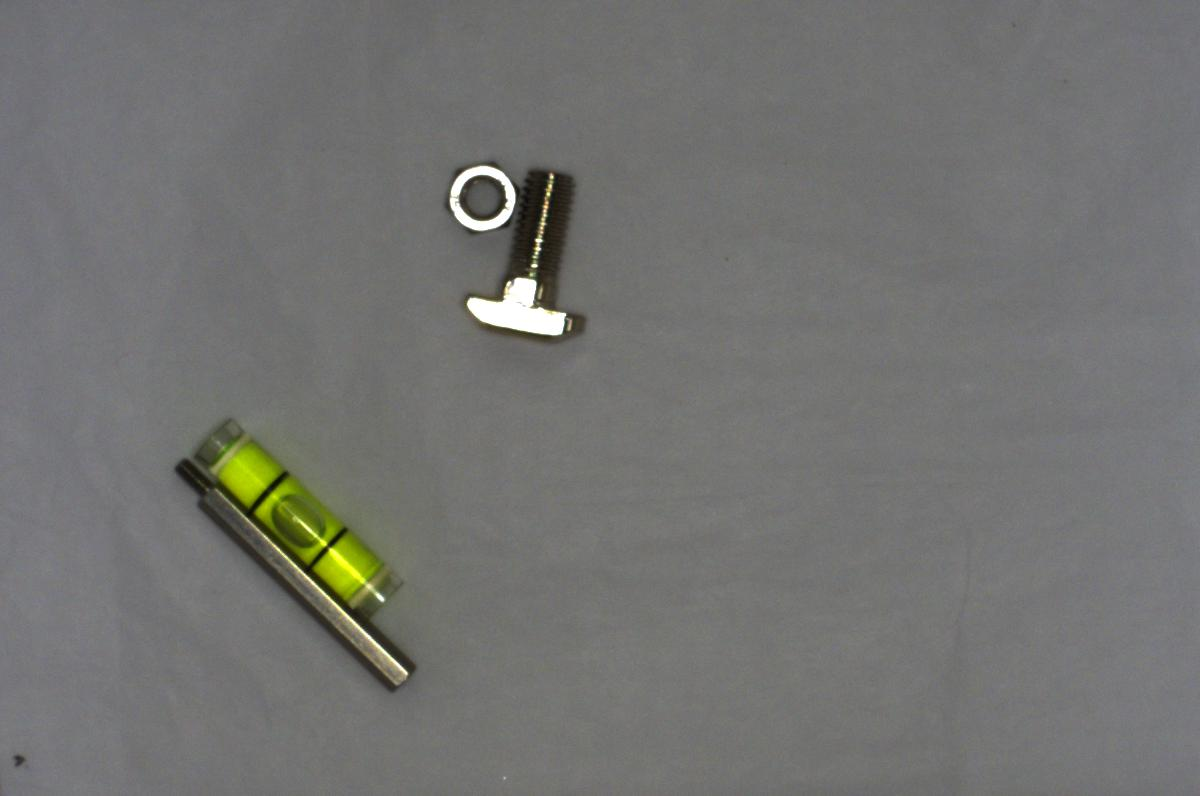Hexagon nut: (440, 154, 519, 230)
Hexagonal steel column: (165, 450, 419, 695)
Horizontal bubble: (193, 412, 406, 621)
T-shaped screw: (459, 149, 588, 346)
